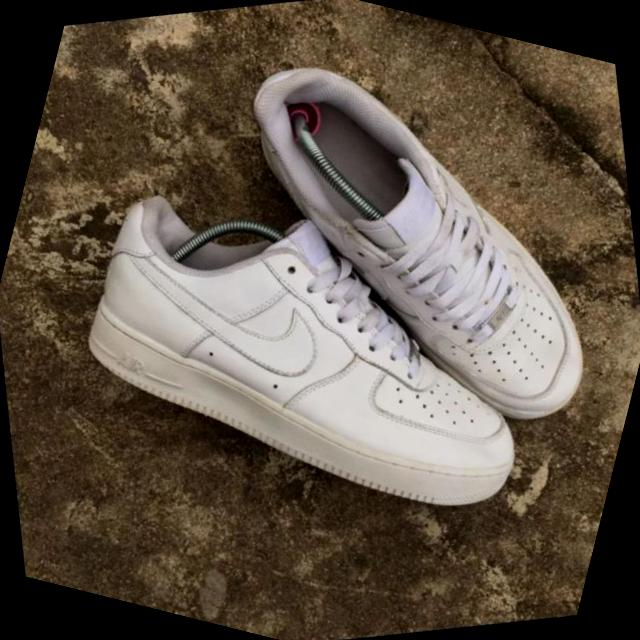nike_original_airforce: (0, 72, 605, 640), (161, 0, 640, 519)
